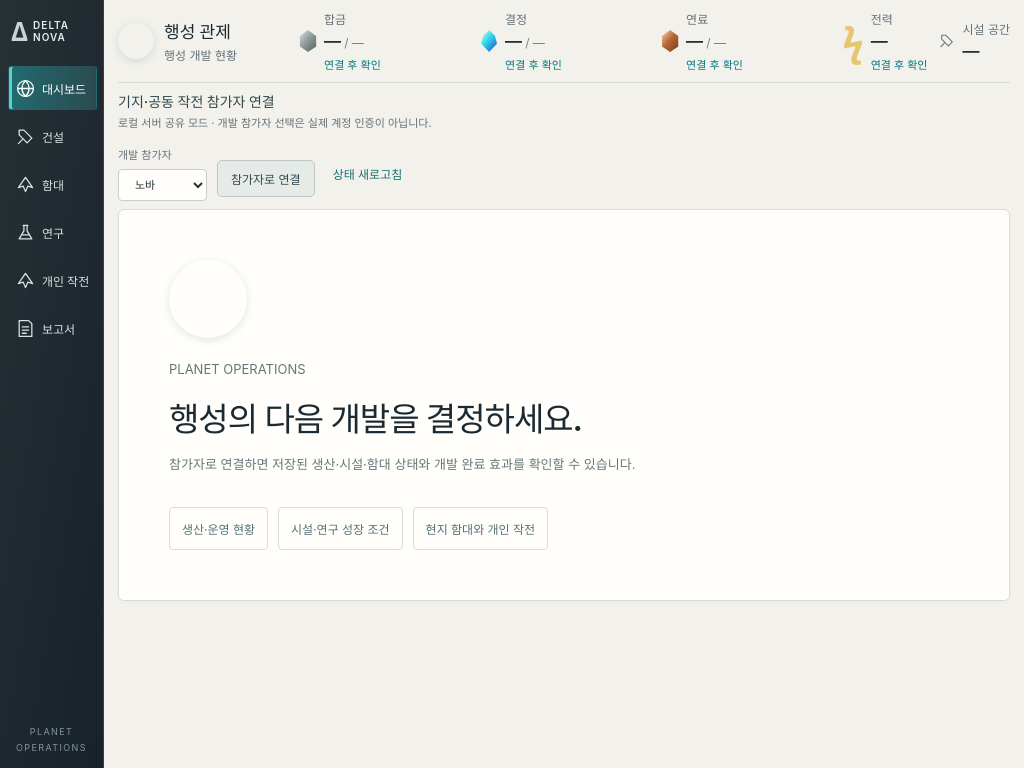
shows actual current production and completion effects without mutating the server state
The image size is (1024, 768).
Click the button "참가자로 연결". click: click(266, 178)
box: [217,160,315,197]
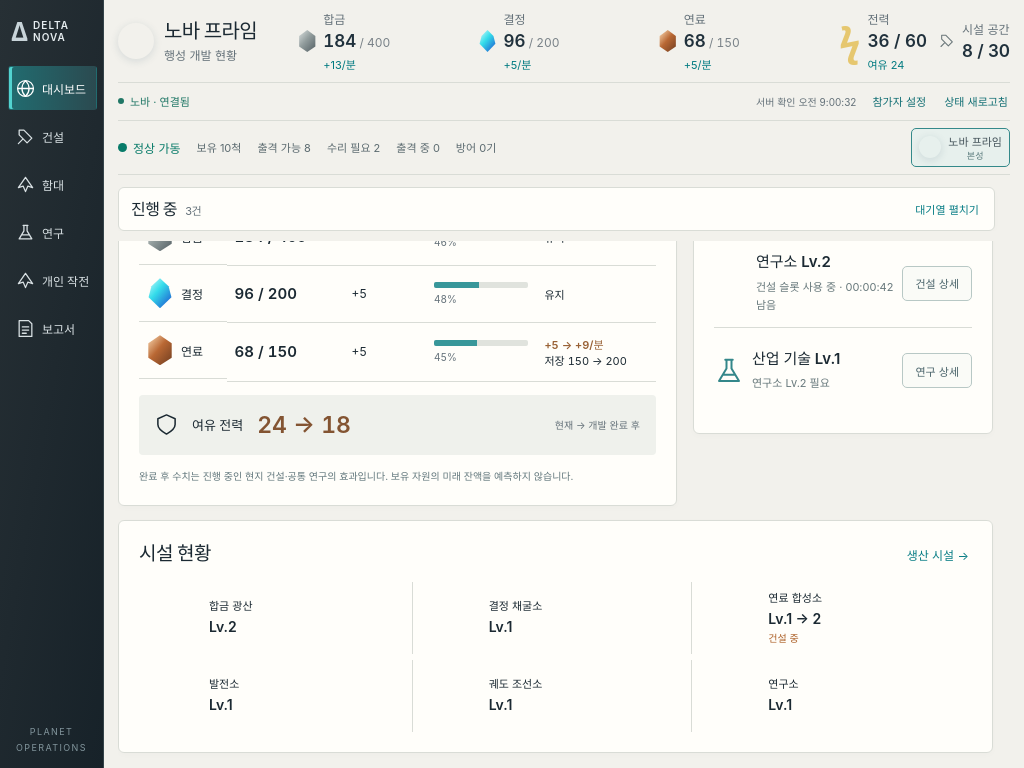
Now the heading "노바 프라임" is shown, box [164,19,257,43]
Now the row "연료 68 / 150 +5 45% +5 → +9/분 저장 150 → 200" is shown, box [139,322,656,381]
Now the element named "전력 여유 변화" shows "24 → 18", box [139,395,656,455]
